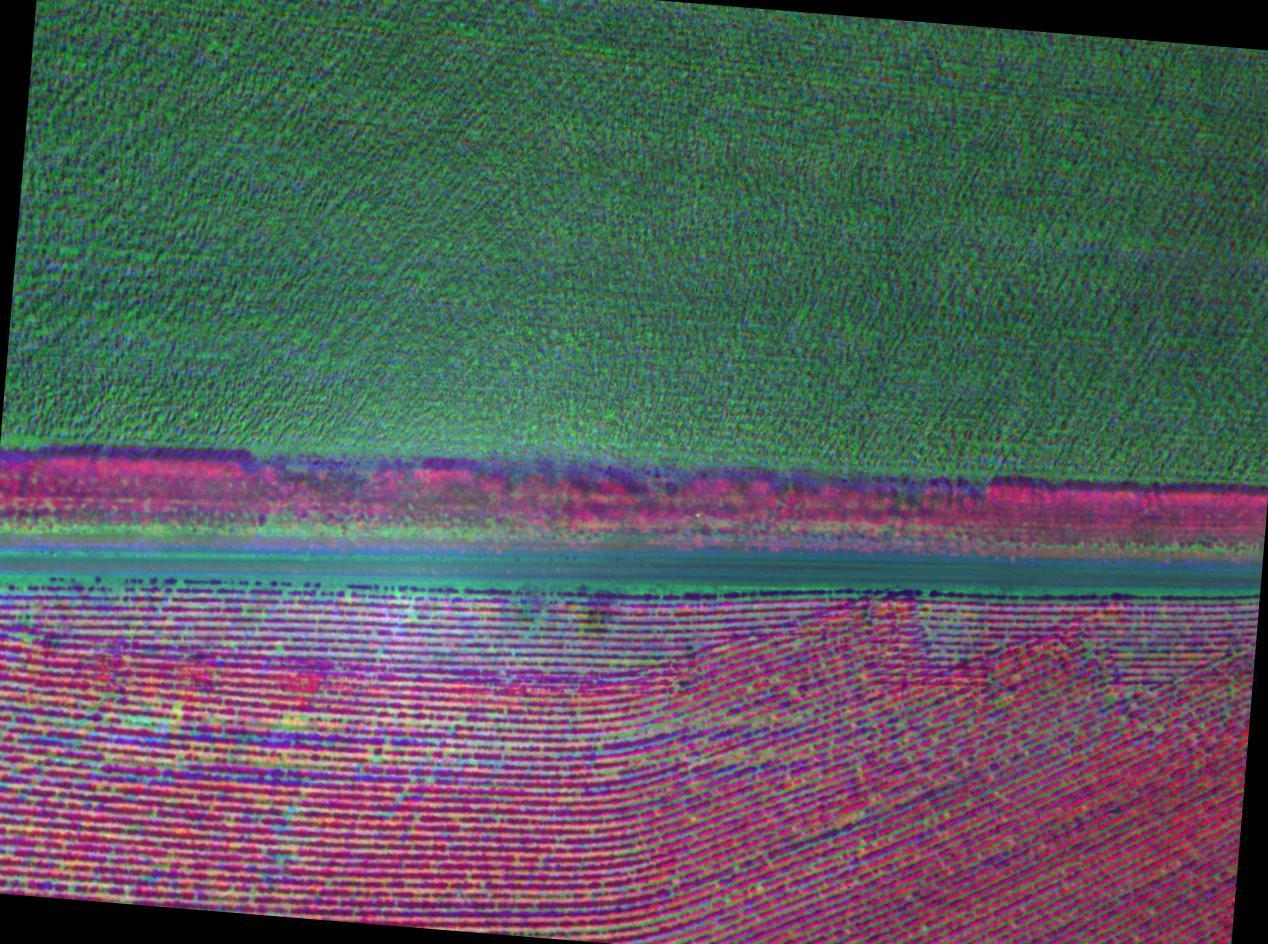dc: (271, 687, 444, 770), (86, 686, 220, 770), (552, 562, 650, 676)
